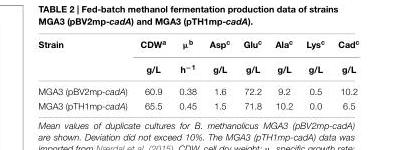table: (37, 37, 358, 110)
table column: (37, 37, 133, 110), (133, 37, 171, 110), (202, 37, 235, 110), (235, 37, 267, 110), (298, 37, 330, 110), (171, 37, 202, 110), (267, 37, 298, 110), (330, 37, 358, 110)
table column header: (37, 37, 358, 80)
table row: (37, 55, 358, 80), (37, 37, 358, 55), (37, 80, 358, 97), (37, 97, 358, 110)
table spanning cell: (37, 37, 133, 80), (133, 37, 171, 80), (202, 37, 235, 80), (235, 37, 267, 80), (298, 37, 330, 80), (171, 37, 202, 80), (267, 37, 298, 80), (330, 37, 358, 80)
